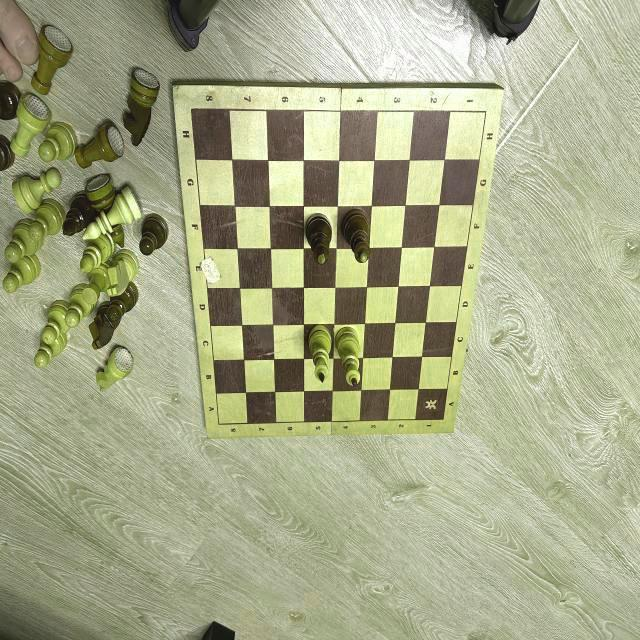chess-table-corners: (476, 105, 494, 118), (187, 104, 196, 115), (216, 419, 222, 428), (440, 416, 446, 424)
